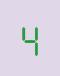four: (19, 20, 39, 56)
